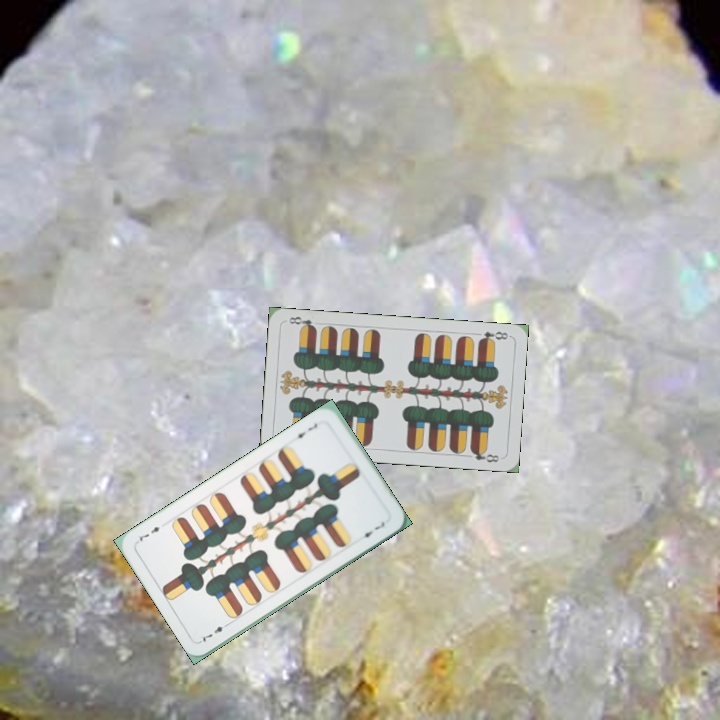E7: (196, 618, 233, 645), (290, 419, 320, 443)
E8: (474, 327, 510, 345)
